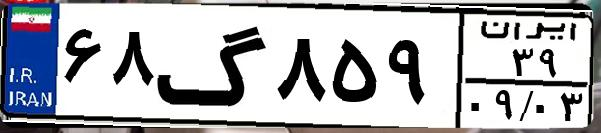0: (470, 70, 495, 125), (535, 70, 560, 125)
3: (560, 70, 590, 125), (508, 27, 537, 80)
5: (330, 28, 385, 110)
6: (57, 26, 110, 100)
8: (270, 28, 330, 110), (110, 28, 156, 98)
9: (385, 28, 445, 110), (537, 27, 568, 80), (495, 70, 520, 125)
گ: (156, 12, 270, 120)
